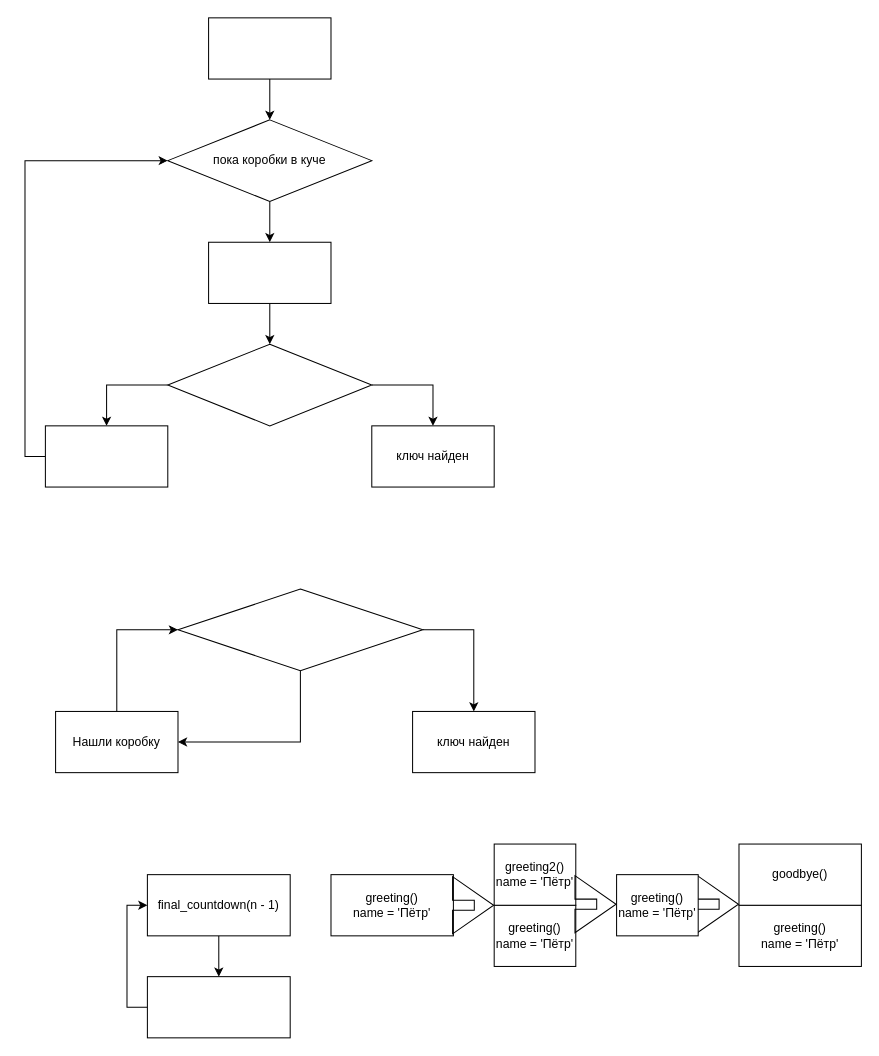
Some shapes in this 879 by 1056 pixel diagram are drawn without their labels. Each missing label, with the box of its shape:
print(n): (146, 976, 290, 1038)
если в коробке ещё одна коробка, то сложить её в кучу: (44, 425, 168, 487)
открыть коробку: (208, 241, 331, 303)
проверить есть ли ключ: (167, 343, 372, 426)
проверять каждый предмет в коробке: (177, 588, 423, 671)
Сложить все коробки в кучу: (208, 17, 331, 79)
